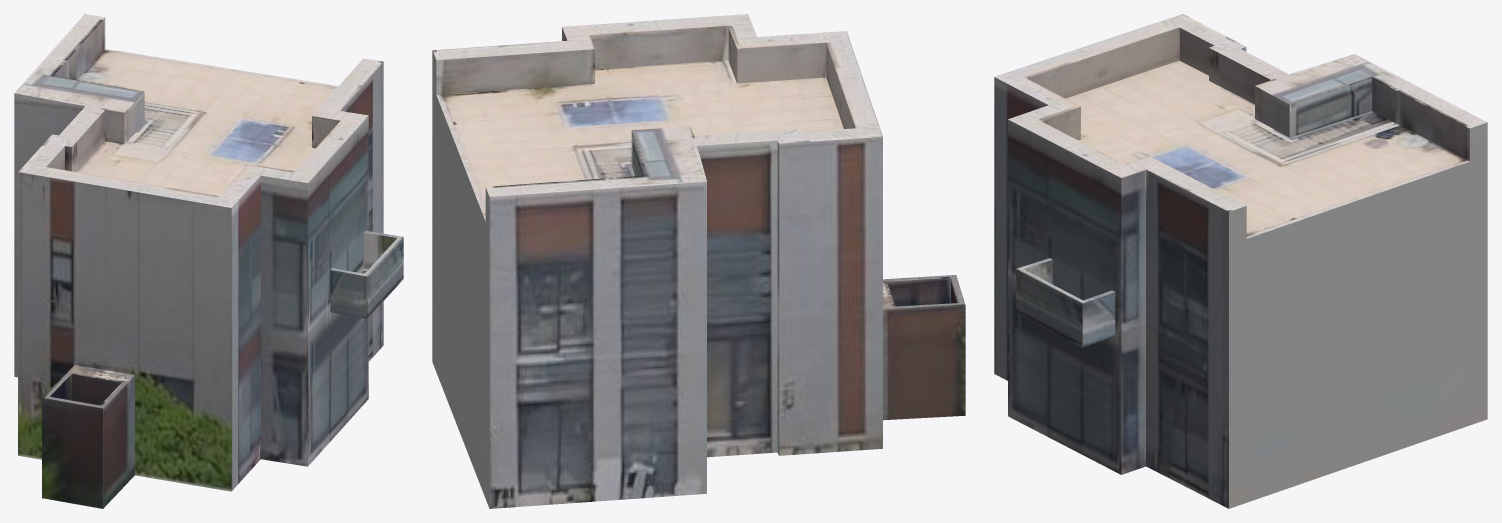
3 renders of one model, left to right at view 1: azimuth 30°, elevation 25°; view 2: azimuth 150°, elevation 25°; view 3: azimuth 270°, elevation 25°, orthographic. The views are drawn at different scales.
Parts seen in each view (by area): view 1: B287084035401062A0; view 2: B287084035401062A0; view 3: B287084035401062A0.
Part boxes in pixels (x1=…): B287084035401062A0: x1=14, y1=14, x2=403, y2=508; B287084035401062A0: x1=432, y1=14, x2=965, y2=508; B287084035401062A0: x1=994, y1=14, x2=1487, y2=508.
Size of the model in its own units: 13.77 by 9.04 by 13.61.
Materials: 1 (1 with a texture image).
